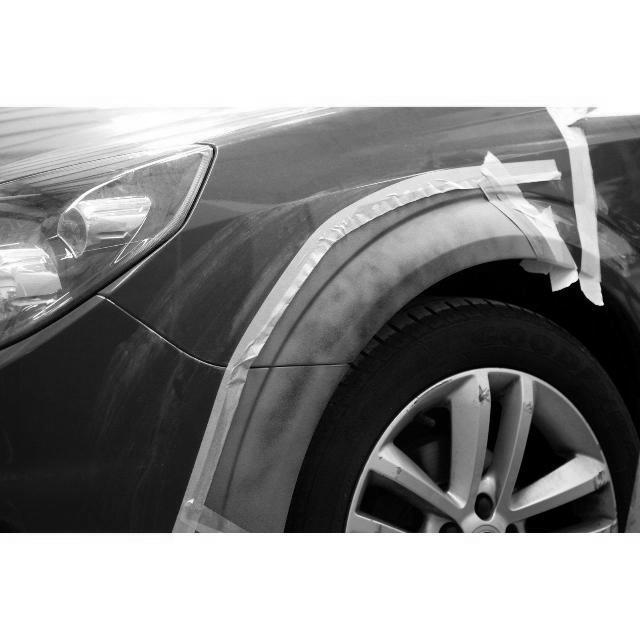rear-bumper-dent: (71, 135, 581, 381)
